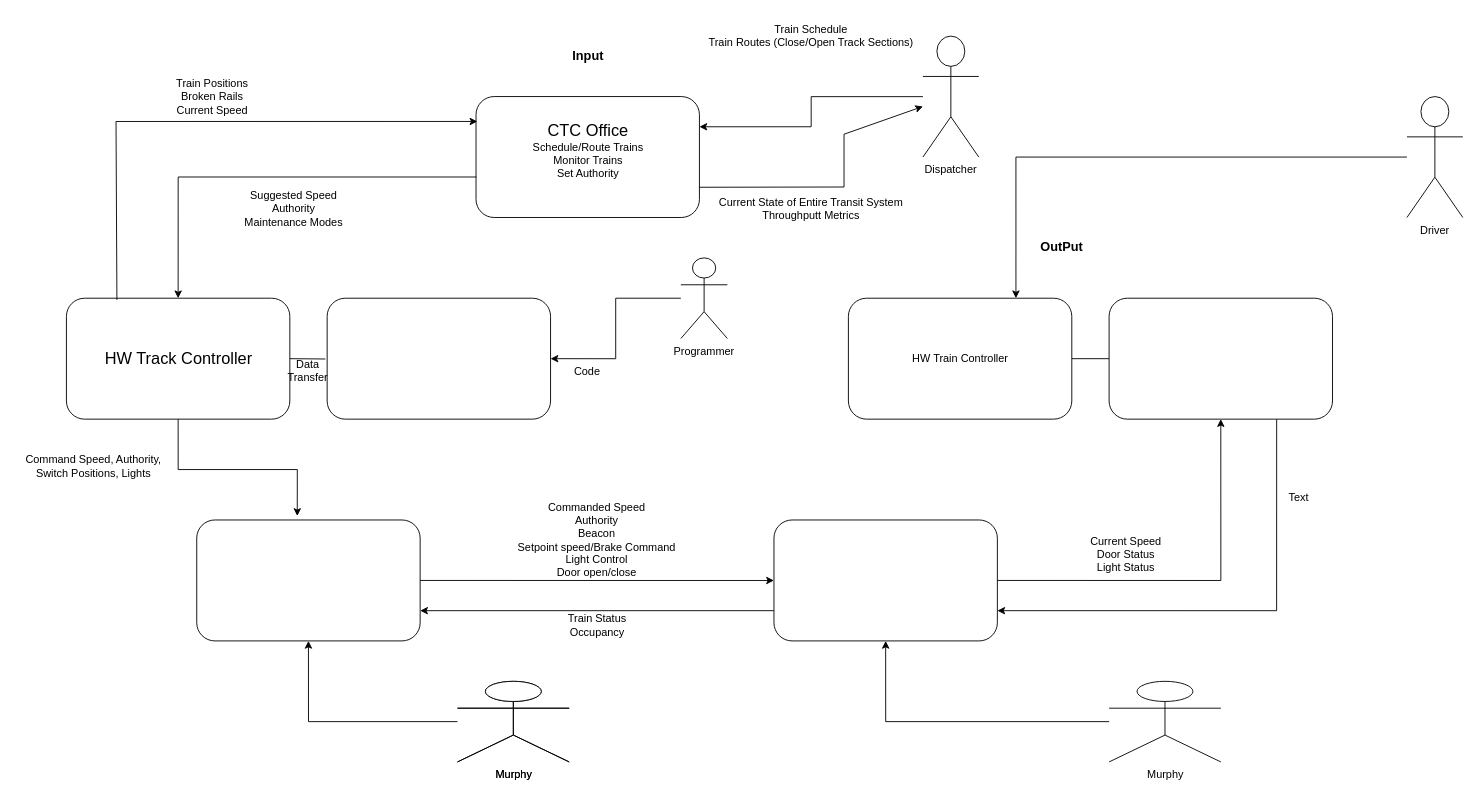
The diagram is 1479 pixels wide and 796 high, and some of its shapes have lost their labels. The shapes that lost their labels are listed below. From the top down, each one's box as (x1, y1, x2, y2) in pixels, then its label:
(326, 297, 551, 419): SW Track Controller
(1108, 297, 1333, 419): SW Train Controller
(196, 519, 420, 641): Track Model Track Layout Grade and Elevation Crossroads Track Heaters Stations
(773, 519, 997, 641): Train Model Newtonian Movement Physical Dimensions Occupancy Car Count
